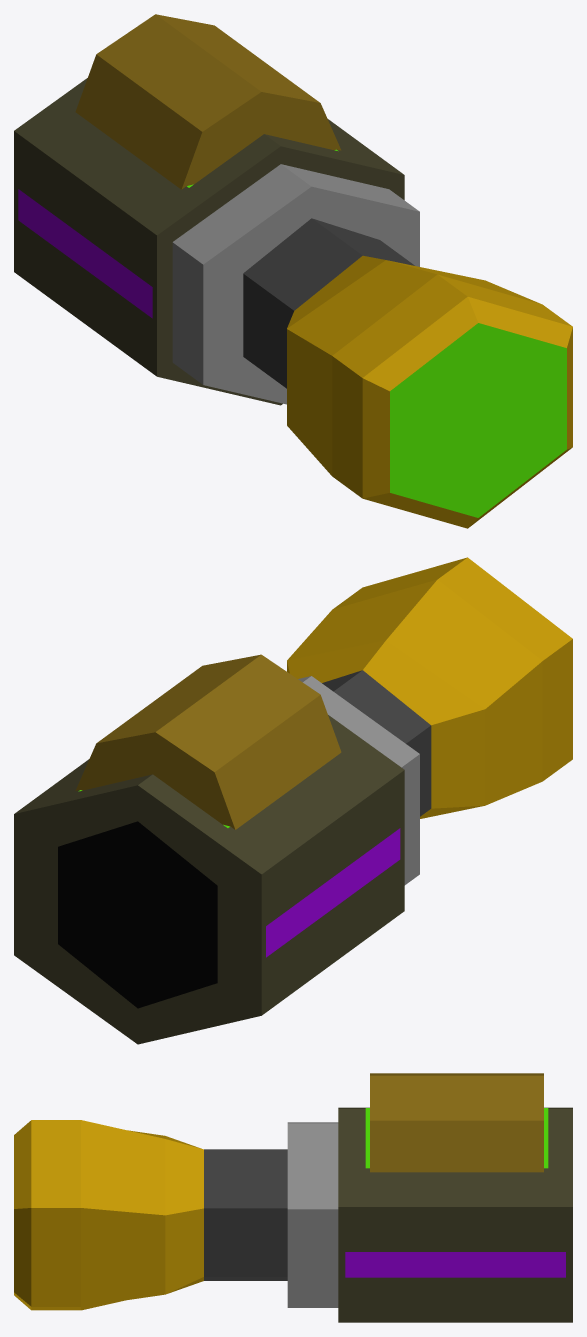
The model's file is shotgun.fbx.
The picture shows the model from 3 angles, top to bottom: view 1: azimuth 30°, elevation 25°; view 2: azimuth 150°, elevation 25°; view 3: azimuth 270°, elevation 25°; orthographic projection. The views are drawn at different scales.
Visible parts, largest first — view 1: shotgun, drum; view 2: shotgun, drum; view 3: shotgun, drum.
Part boxes in pixels (x1,y1,x2,y2): shotgun: (14, 78, 572, 528); drum: (75, 14, 341, 189); shotgun: (14, 557, 572, 1044); drum: (75, 654, 341, 829); shotgun: (14, 1107, 572, 1322); drum: (370, 1073, 543, 1172).
Bounding box in the file's own units: 25.89 × 61.63 × 29.9.
